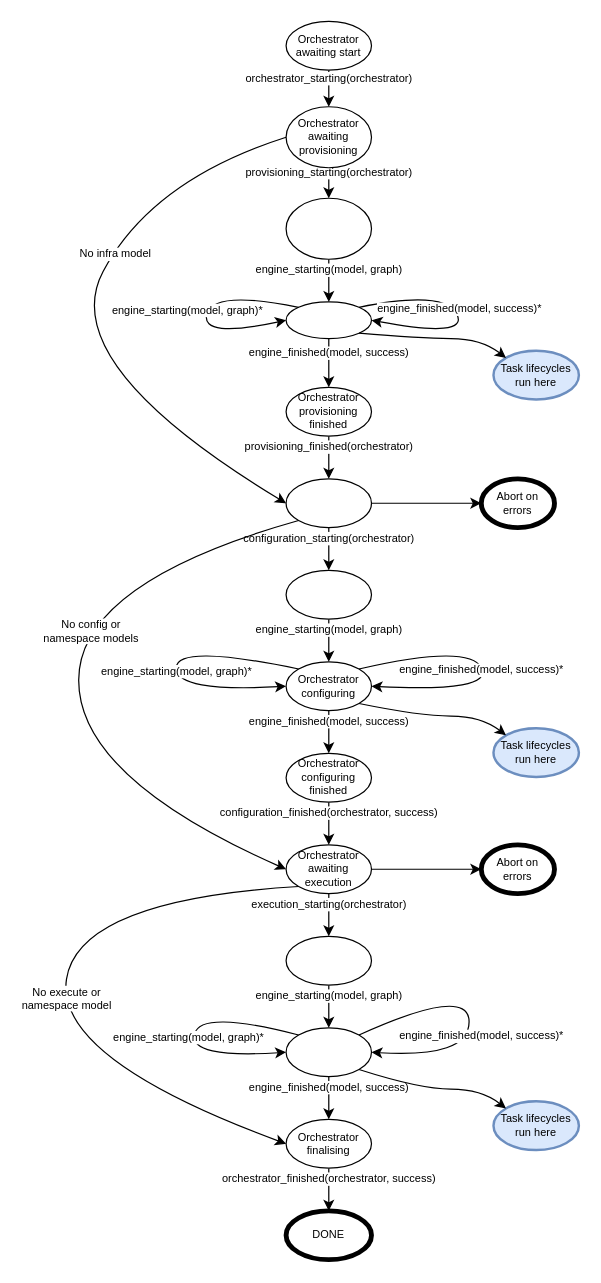
The diagram is 601 pixels wide and 1283 high, and some of its shapes have lost their labels. The shapes that lost their labels are listed below. From the top down, each one's centre as x and y in pixels, then its label:
At pixel 328 228: "Orchestrator provisioning ready".
At pixel 328 320: "Orchestrator provisioning".
At pixel 328 503: "Orchestrator awaiting configuration".
At pixel 328 594: "Orchestrator configuration ready".
At pixel 328 960: "Orchestrator execution ready".
At pixel 328 1052: "Orchestrator executing".
